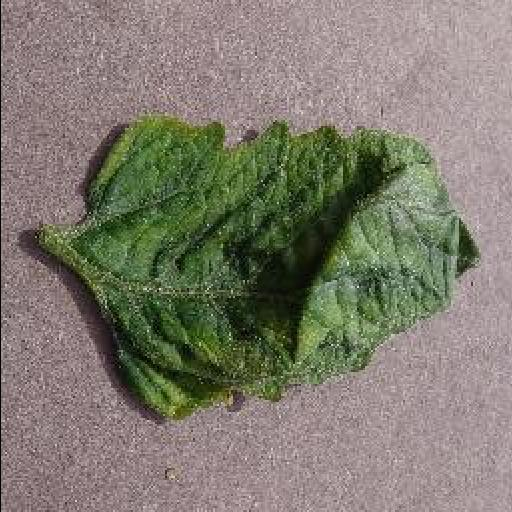disease_tomato: (82, 118, 476, 426)
